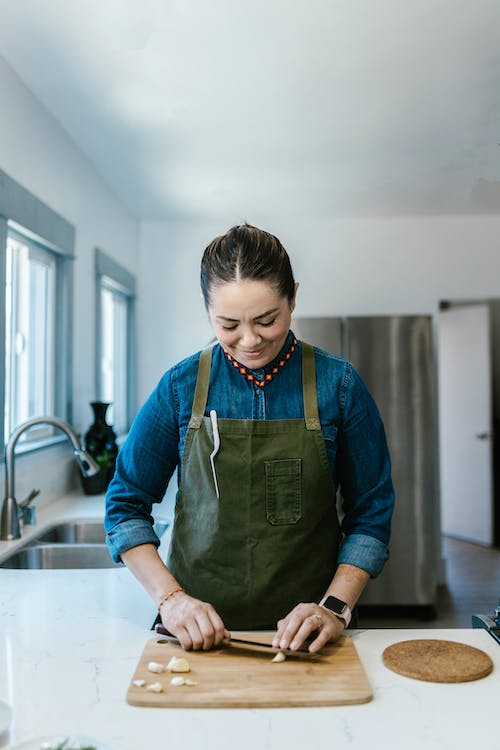knife: (220, 634, 331, 657)
